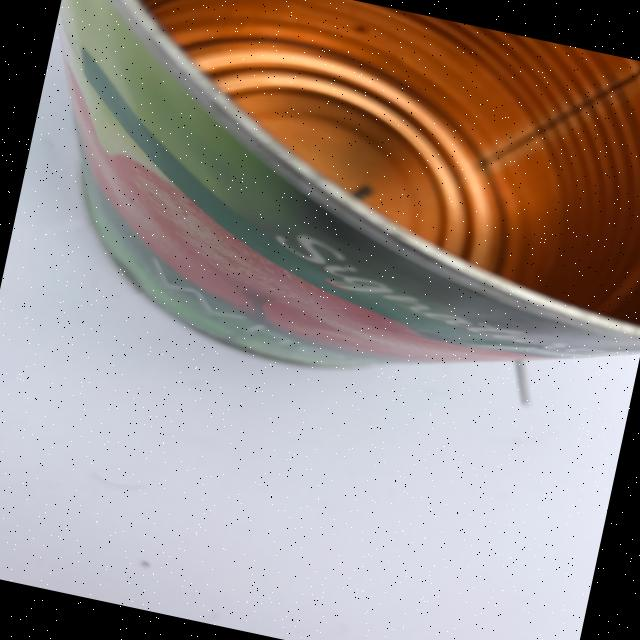metal: (0, 0, 640, 435)
